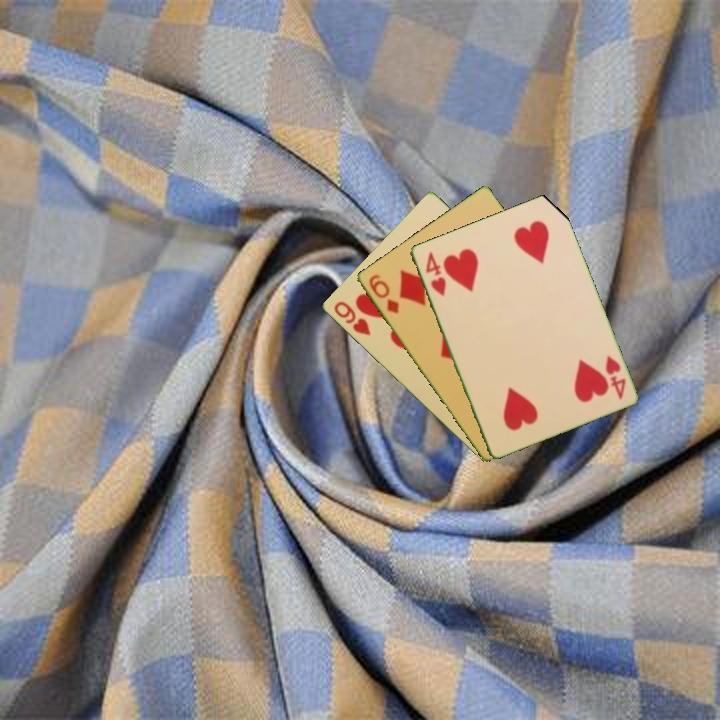4h: (421, 248, 449, 299), (601, 352, 628, 402)
6d: (365, 271, 402, 317)
9h: (330, 297, 373, 339)
